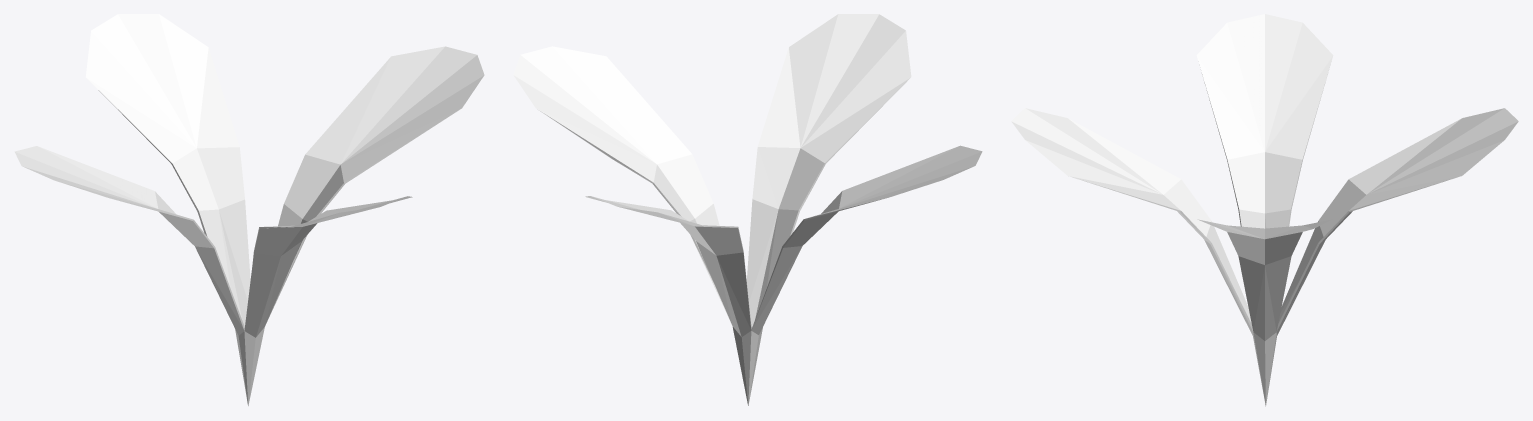
File: Crop_Carrot_STAGE_1_01.glb
3 views of the same model, side by side, from view 1: azimuth 30°, elevation 25°; view 2: azimuth 150°, elevation 25°; view 3: azimuth 270°, elevation 25° (orthographic). The views are drawn at different scales.
Visible parts, largest first — view 1: Crop_Carrot_STAGE_1_01; view 2: Crop_Carrot_STAGE_1_01; view 3: Crop_Carrot_STAGE_1_01.
Part boxes in pixels (<box>): Crop_Carrot_STAGE_1_01: <box>14,14,484,405</box>; Crop_Carrot_STAGE_1_01: <box>513,14,982,405</box>; Crop_Carrot_STAGE_1_01: <box>1011,14,1518,406</box>.
Size of the model in its own units: 0.2646 by 0.1645 by 0.2645.
Materials: 1 (1 with a texture image).
